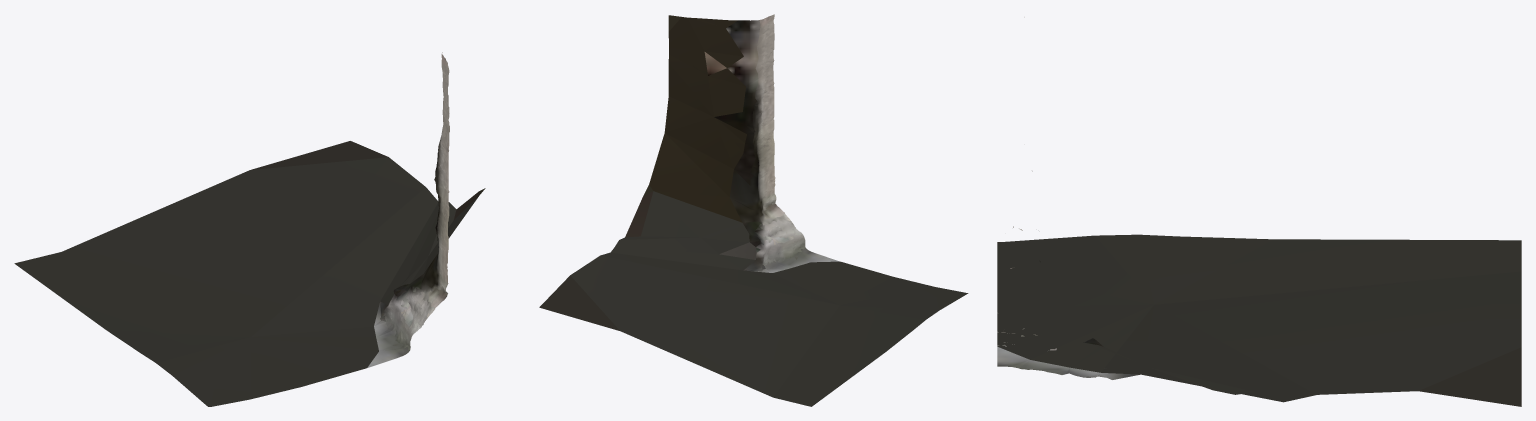
The picture shows the model from 3 angles, left to right: view 1: azimuth 30°, elevation 25°; view 2: azimuth 150°, elevation 25°; view 3: azimuth 270°, elevation 25°; orthographic projection. The views are drawn at different scales.
Bounding box in the file's own units: 0.983 × 0.806 × 0.983.
1 material, 1 textured.
